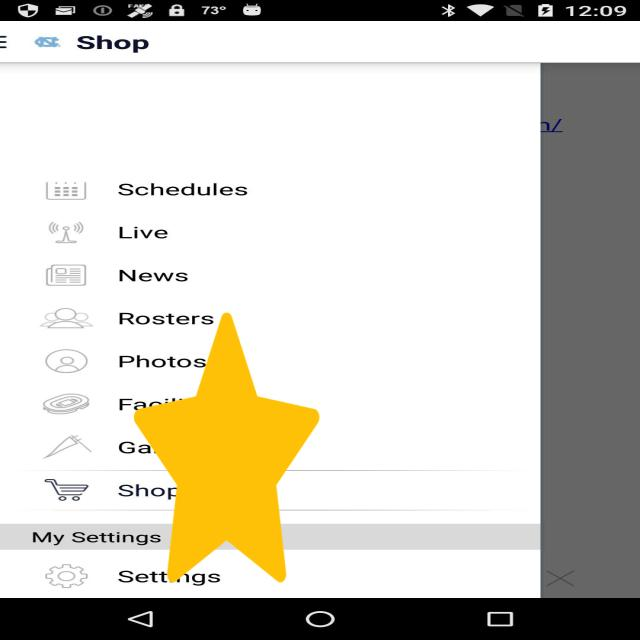forced continuity: (134, 312, 319, 583)
